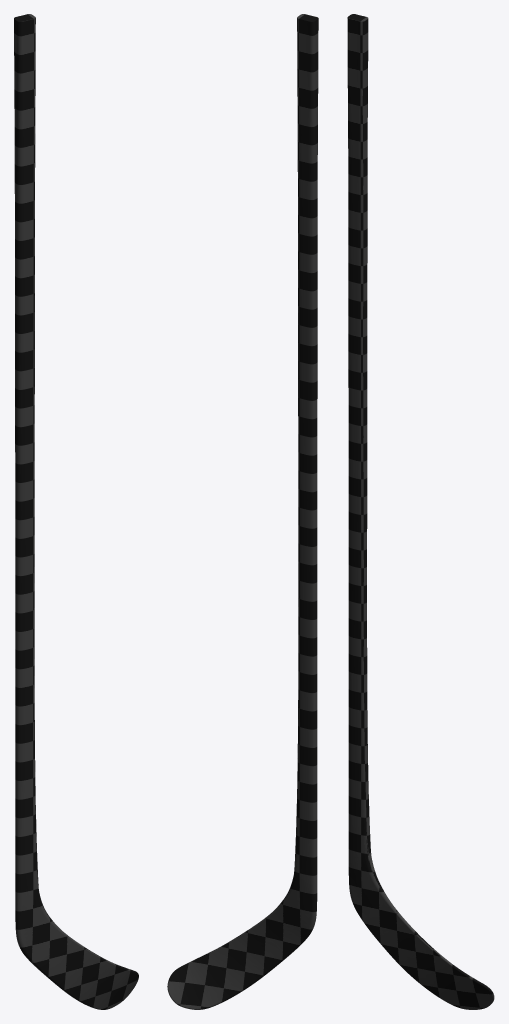
The model's file is P85-SBO.glb.
3 renders of one model, left to right at view 1: azimuth 30°, elevation 25°; view 2: azimuth 150°, elevation 25°; view 3: azimuth 330°, elevation 25°, orthographic. The views are drawn at different scales.
Visible parts, largest first — view 1: geometry_0; view 2: geometry_0; view 3: geometry_0.
Part boxes in pixels (<box>): geometry_0: <box>14,14,138,1009</box>; geometry_0: <box>167,14,318,1009</box>; geometry_0: <box>347,14,494,1009</box>.
Bounding box in the file's own units: 230 × 1650 × 61.45.
1 material, 1 textured.
